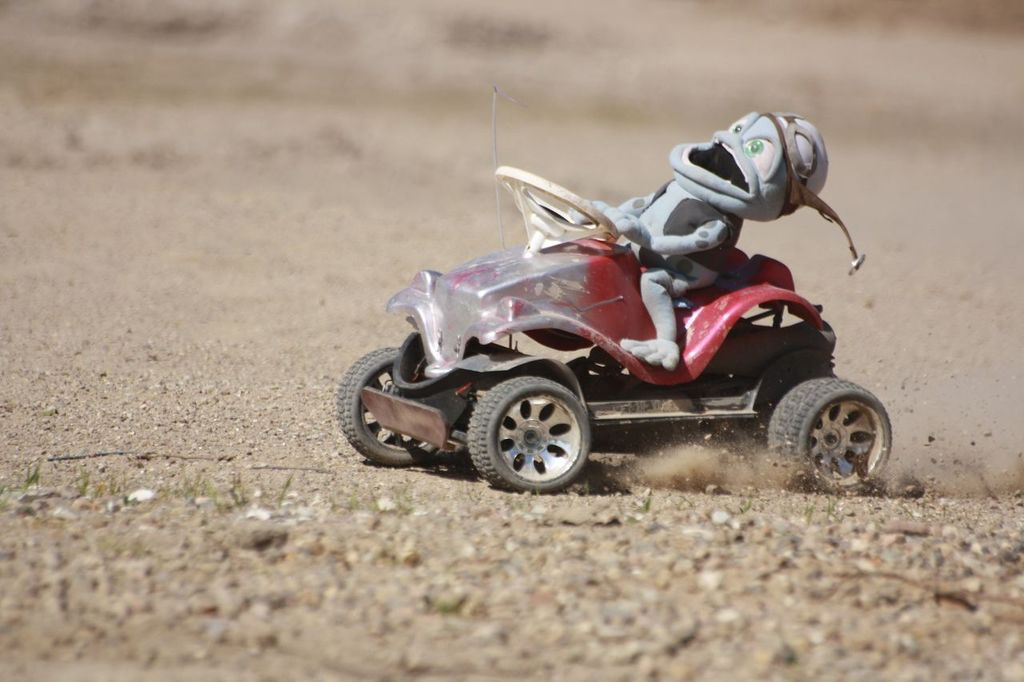Car: (338, 80, 892, 492)
